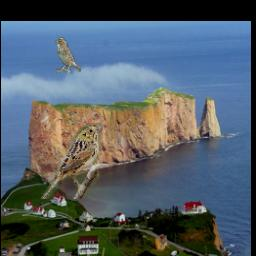Sparrow: (40, 123, 103, 199), (56, 37, 82, 73)
